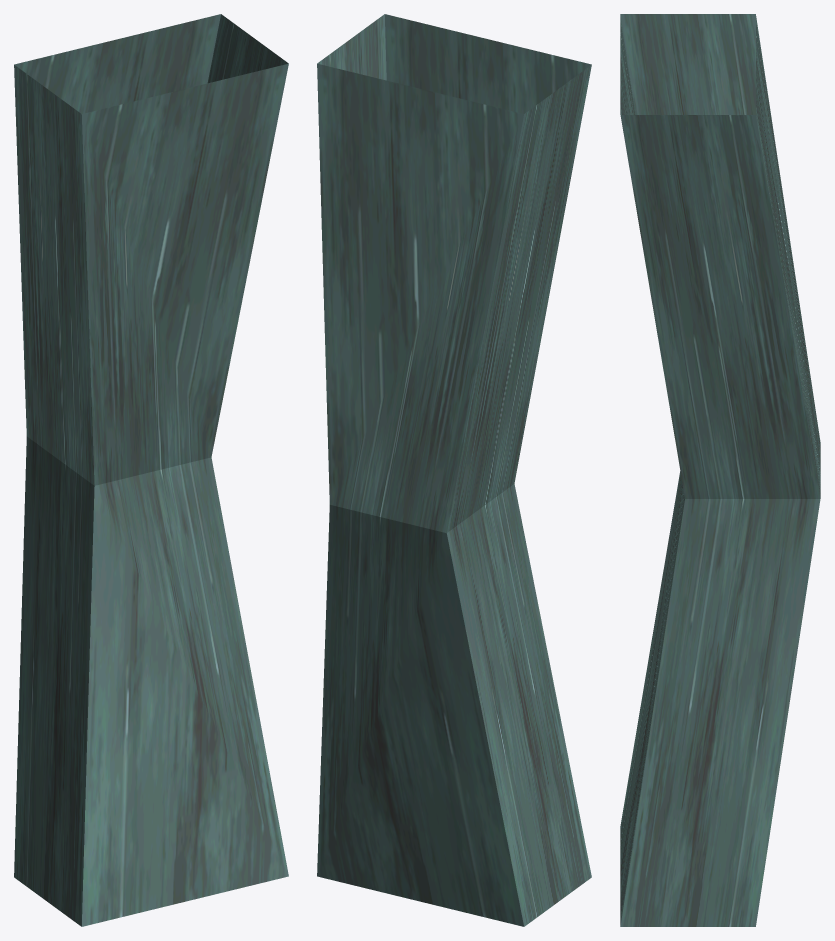
Rendered from Stütze_Klein_135.glb.
The picture shows the model from 3 angles, left to right: view 1: azimuth 30°, elevation 25°; view 2: azimuth 150°, elevation 25°; view 3: azimuth 270°, elevation 25°; orthographic projection.
Visible parts, largest first — view 1: pPlaneShape3, pPlaneShape1, pPlaneShape4, pPlaneShape2; view 2: pPlaneShape4, pPlaneShape1, pPlaneShape3, pPlaneShape2; view 3: pPlaneShape2, pPlaneShape1, pPlaneShape3, pPlaneShape4.
Part boxes in pixels (x1=…): pPlaneShape3: x1=81, y1=63, x2=288, y2=926; pPlaneShape1: x1=14, y1=65, x2=94, y2=926; pPlaneShape4: x1=14, y1=14, x2=220, y2=113; pPlaneShape2: x1=207, y1=14, x2=288, y2=83; pPlaneShape4: x1=317, y1=63, x2=523, y2=926; pPlaneShape1: x1=446, y1=65, x2=591, y2=926; pPlaneShape3: x1=384, y1=14, x2=591, y2=113; pPlaneShape2: x1=317, y1=14, x2=386, y2=80; pPlaneShape2: x1=620, y1=115, x2=820, y2=926; pPlaneShape1: x1=620, y1=14, x2=755, y2=114; pPlaneShape3: x1=620, y1=14, x2=684, y2=926; pPlaneShape4: x1=756, y1=16, x2=820, y2=498.
Bounding box in the file's own units: 0.1036 × 0.3886 × 0.0868.
4 materials, 4 textured.
